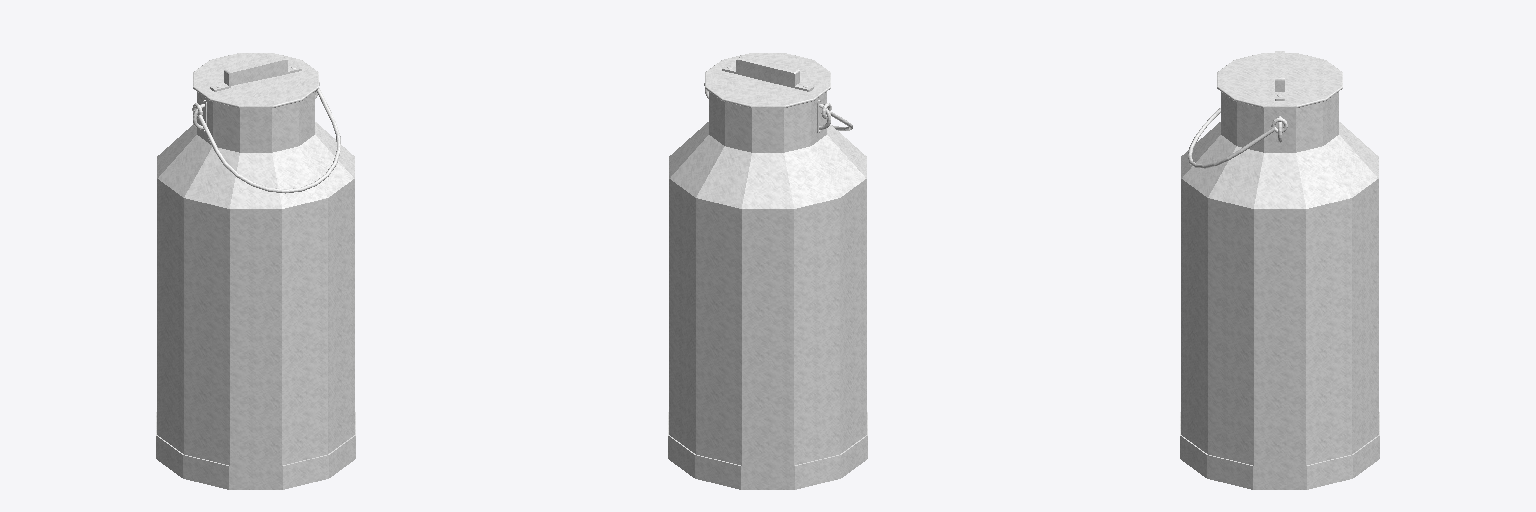
3 renders of one model, left to right at view 1: azimuth 30°, elevation 25°; view 2: azimuth 150°, elevation 25°; view 3: azimuth 270°, elevation 25°, orthographic.
Parts seen in each view (by area): view 1: Mesh1 Komponente_1_1 Komponente_5_1 milk_can1 Model, Mesh10 Komponente_6_1 Komponente_9_1 Komponente_5_1 milk_can1 Mo, Mesh11 Komponente_7_1 Komponente_9_1 Komponente_5_1 milk_can1 Mo, Mesh14 Komponente_11_1 Komponente_5_1 milk_can1 Model; view 2: Mesh1 Komponente_1_1 Komponente_5_1 milk_can1 Model, Mesh10 Komponente_6_1 Komponente_9_1 Komponente_5_1 milk_can1 Mo, Mesh11 Komponente_7_1 Komponente_9_1 Komponente_5_1 milk_can1 Mo; view 3: Mesh1 Komponente_1_1 Komponente_5_1 milk_can1 Model, Mesh10 Komponente_6_1 Komponente_9_1 Komponente_5_1 milk_can1 Mo, Mesh14 Komponente_11_1 Komponente_5_1 milk_can1 Model.
Boxes of the visible parts, x1=… form: Mesh1 Komponente_1_1 Komponente_5_1 milk_can1 Model: x1=156, y1=92, x2=355, y2=489; Mesh10 Komponente_6_1 Komponente_9_1 Komponente_5_1 milk_can1 Mo: x1=193, y1=53, x2=318, y2=107; Mesh11 Komponente_7_1 Komponente_9_1 Komponente_5_1 milk_can1 Mo: x1=210, y1=56, x2=301, y2=91; Mesh14 Komponente_11_1 Komponente_5_1 milk_can1 Model: x1=192, y1=82, x2=340, y2=193; Mesh1 Komponente_1_1 Komponente_5_1 milk_can1 Model: x1=668, y1=92, x2=867, y2=489; Mesh10 Komponente_6_1 Komponente_9_1 Komponente_5_1 milk_can1 Mo: x1=705, y1=53, x2=830, y2=107; Mesh11 Komponente_7_1 Komponente_9_1 Komponente_5_1 milk_can1 Mo: x1=722, y1=56, x2=813, y2=91; Mesh1 Komponente_1_1 Komponente_5_1 milk_can1 Model: x1=1180, y1=92, x2=1379, y2=489; Mesh10 Komponente_6_1 Komponente_9_1 Komponente_5_1 milk_can1 Mo: x1=1217, y1=53, x2=1342, y2=107; Mesh14 Komponente_11_1 Komponente_5_1 milk_can1 Model: x1=1188, y1=108, x2=1287, y2=168.
Size of the model in its own units: 11.58 by 24.5 by 11.58.
1 materials, 1 textured.